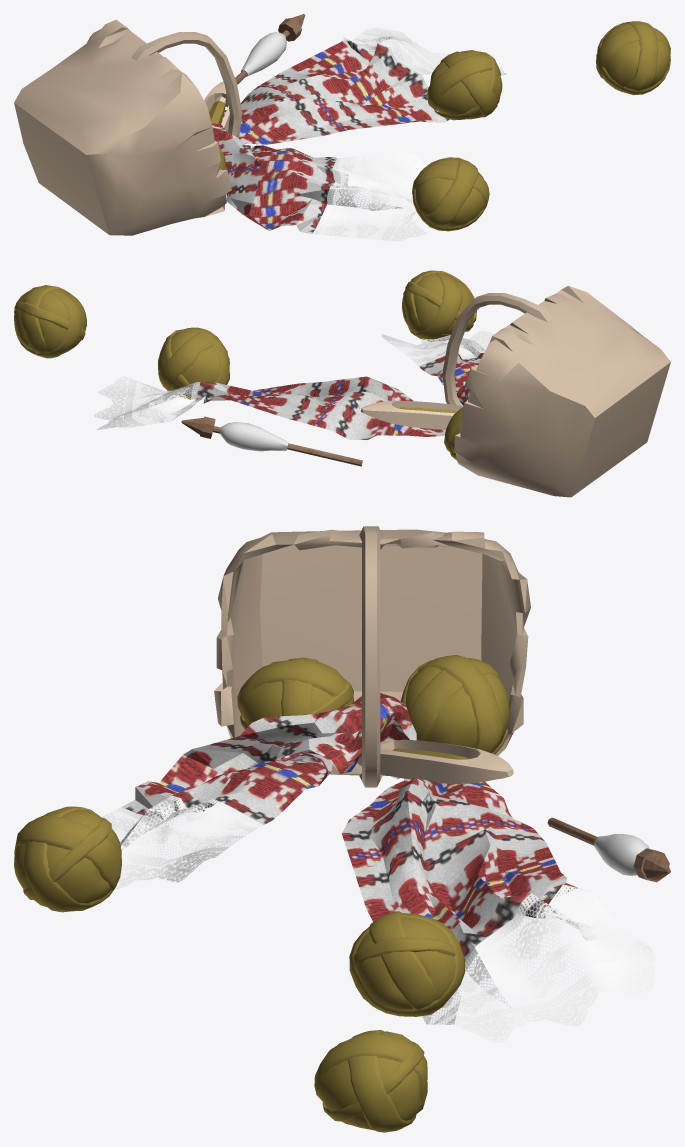
Rendered from basket-knitting.glb.
3 renders of one model, top to bottom at view 1: azimuth 30°, elevation 25°; view 2: azimuth 150°, elevation 25°; view 3: azimuth 270°, elevation 25°, orthographic. The views are drawn at different scales.
Visible parts, largest first — view 1: basket-knitting; view 2: basket-knitting; view 3: basket-knitting.
Boxes of the visible parts, box(x1,y1,x2,y2) form: basket-knitting: box(14, 14, 670, 241); basket-knitting: box(14, 270, 670, 497); basket-knitting: box(14, 526, 670, 1132).
Size of the model in its own units: 0.5 by 0.1291 by 0.3073.
7 materials, 4 textured.
